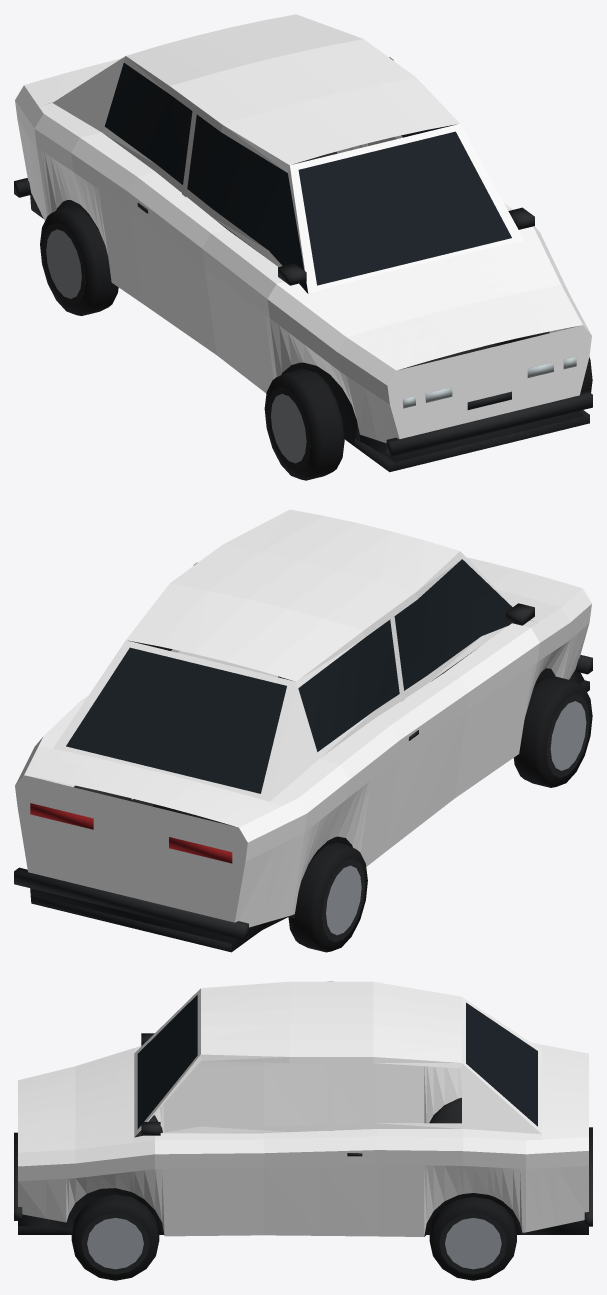
File: ridgeway_pitanga.glb
3 renders of one model, top to bottom at view 1: azimuth 30°, elevation 25°; view 2: azimuth 150°, elevation 25°; view 3: azimuth 270°, elevation 25°, orthographic. The views are drawn at different scales.
Visible parts, largest first — view 1: Body_Paint, Body_Details, Mount_FrontLeft_Wheel_Details, Mount_RearLeft_Wheel_Details; view 2: Body_Paint, Body_Details, Mount_FrontLeft_Wheel_Details, Mount_RearLeft_Wheel_Details; view 3: Body_Paint, Body_Details, Mount_FrontRight_Wheel_Details, Mount_RearRight_Wheel_Details.
Boxes of the visible parts, bbox=[...] form: Body_Paint: bbox=[15, 14, 591, 443]; Body_Details: bbox=[14, 63, 592, 472]; Mount_FrontLeft_Wheel_Details: bbox=[264, 369, 344, 480]; Mount_RearLeft_Wheel_Details: bbox=[40, 205, 118, 315]; Body_Paint: bbox=[15, 509, 591, 927]; Body_Details: bbox=[14, 559, 592, 952]; Mount_FrontLeft_Wheel_Details: bbox=[513, 676, 592, 787]; Mount_RearLeft_Wheel_Details: bbox=[288, 842, 367, 952]; Body_Paint: bbox=[18, 981, 588, 1236]; Body_Details: bbox=[14, 995, 592, 1236]; Mount_FrontRight_Wheel_Details: bbox=[71, 1194, 159, 1280]; Mount_RearRight_Wheel_Details: bbox=[429, 1197, 516, 1280].
Size of the model in its own units: 1.7 by 1.55 by 3.84.
Materials: 2 (1 with a texture image).
